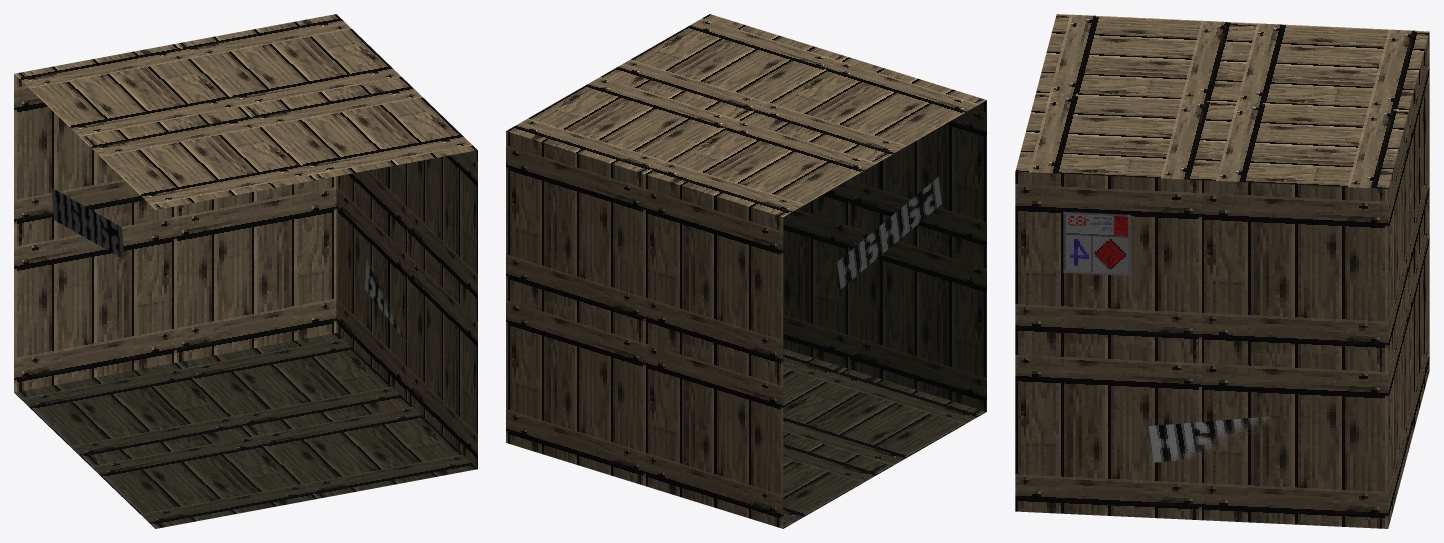
Rendered from primary_029.glb.
The picture shows the model from 3 angles, left to right: view 1: azimuth 30°, elevation 25°; view 2: azimuth 150°, elevation 25°; view 3: azimuth 270°, elevation 25°; orthographic projection. The views are drawn at different scales.
Visible parts, largest first — view 1: Object; view 2: Object; view 3: Object.
Part boxes in pixels (<box>): Object: <box>14,14,477,528</box>; Object: <box>506,14,986,528</box>; Object: <box>1015,14,1429,528</box>.
Size of the model in its own units: 1.46 by 1.32 by 1.46.
7 materials, 7 textured.
